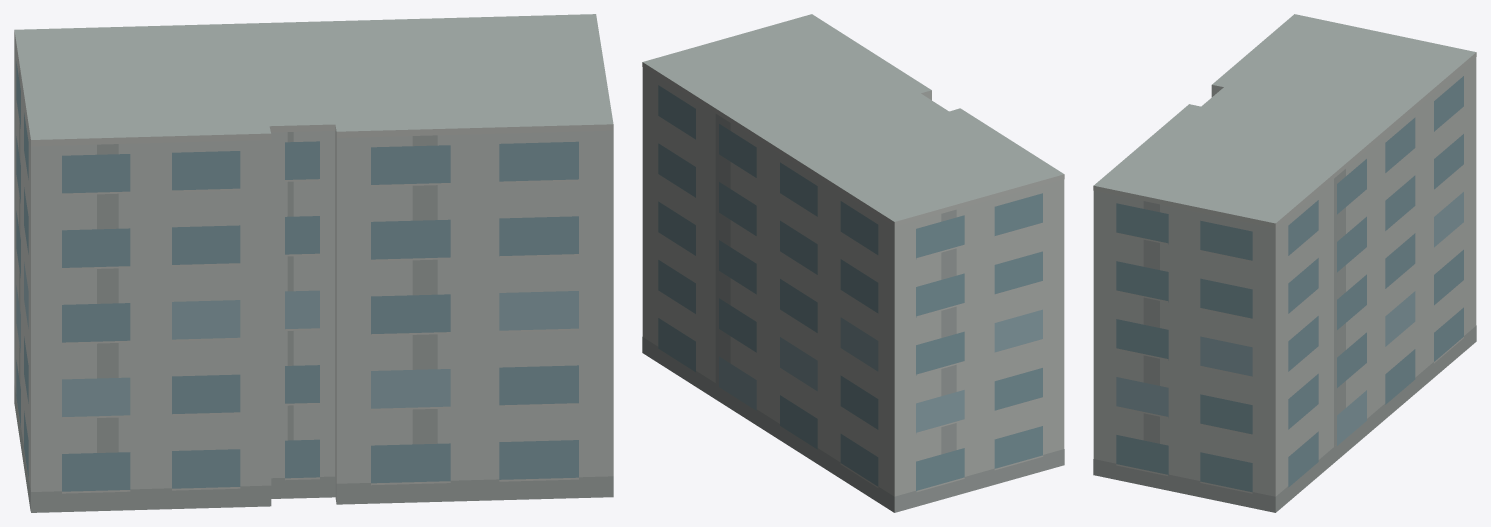
File: survey-upis-32891667.glb
3 renders of one model, left to right at view 1: azimuth 30°, elevation 25°; view 2: azimuth 150°, elevation 25°; view 3: azimuth 270°, elevation 25°, orthographic. The views are drawn at different scales.
Parts seen in each view (by area): view 1: survey-upis-32891667.tmp; view 2: survey-upis-32891667.tmp; view 3: survey-upis-32891667.tmp.
Part boxes in pixels (x1,y1,x2,y2): survey-upis-32891667.tmp: (14,14,613,512); survey-upis-32891667.tmp: (642,14,1064,512); survey-upis-32891667.tmp: (1093,14,1476,512).
Bounding box in the file's own units: 22.21 × 14.3 × 17.16.
